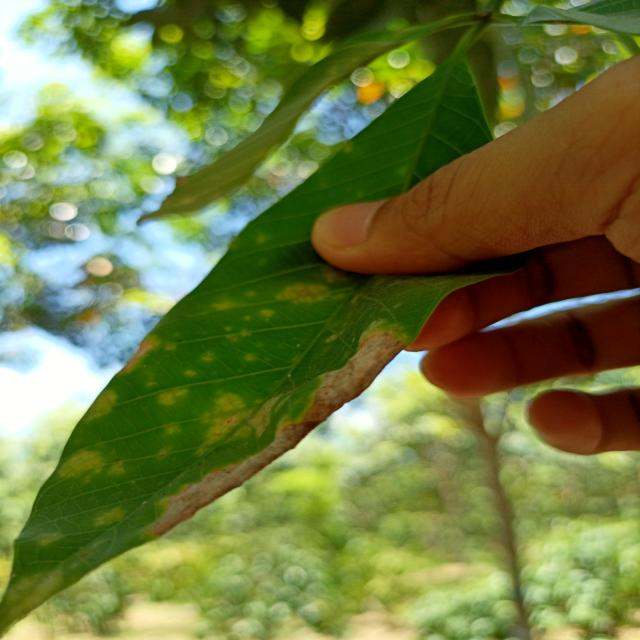Leaf-Blight: (150, 330, 406, 537)
